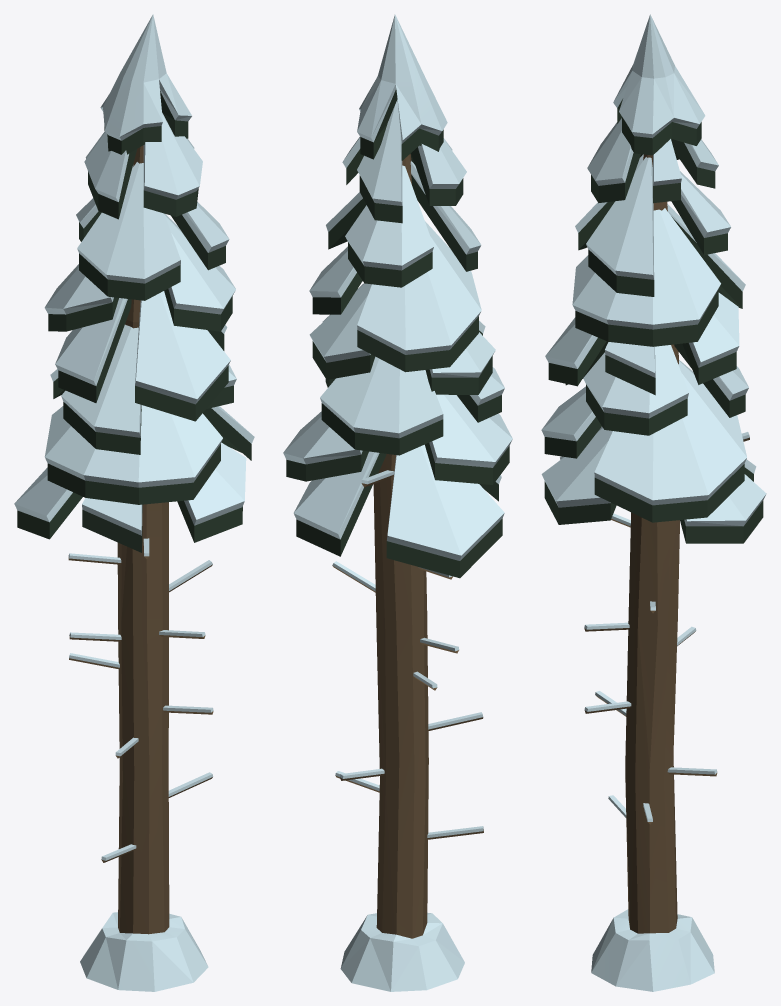
Rendered from Pino_Grande01.glb.
3 views of the same model, side by side, from view 1: azimuth 30°, elevation 25°; view 2: azimuth 150°, elevation 25°; view 3: azimuth 270°, elevation 25° (orthographic).
Parts seen in each view (by area): view 1: SM_Env_Tree_Pine_Large_01_Snow; view 2: SM_Env_Tree_Pine_Large_01_Snow; view 3: SM_Env_Tree_Pine_Large_01_Snow.
Boxes of the visible parts, box(x1,y1,x2,y2) form: SM_Env_Tree_Pine_Large_01_Snow: box(14, 14, 254, 991); SM_Env_Tree_Pine_Large_01_Snow: box(283, 14, 512, 991); SM_Env_Tree_Pine_Large_01_Snow: box(541, 14, 766, 991).
Size of the model in its own units: 2.12 by 9.71 by 2.04.
Materials: 1 (1 with a texture image).
